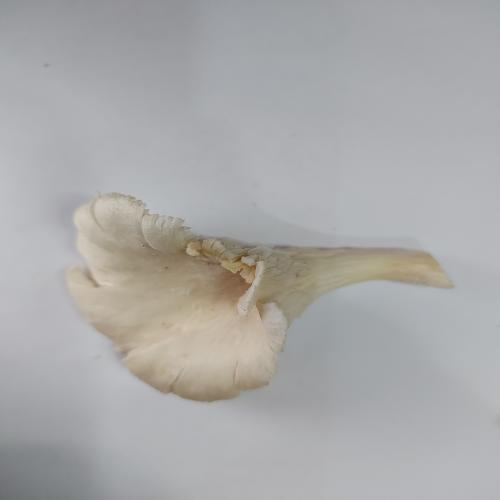Oyster Mushroom: (64, 191, 454, 403)
